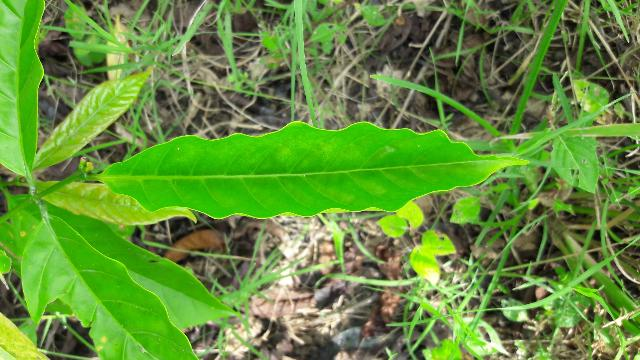healthy: (100, 121, 528, 220)
